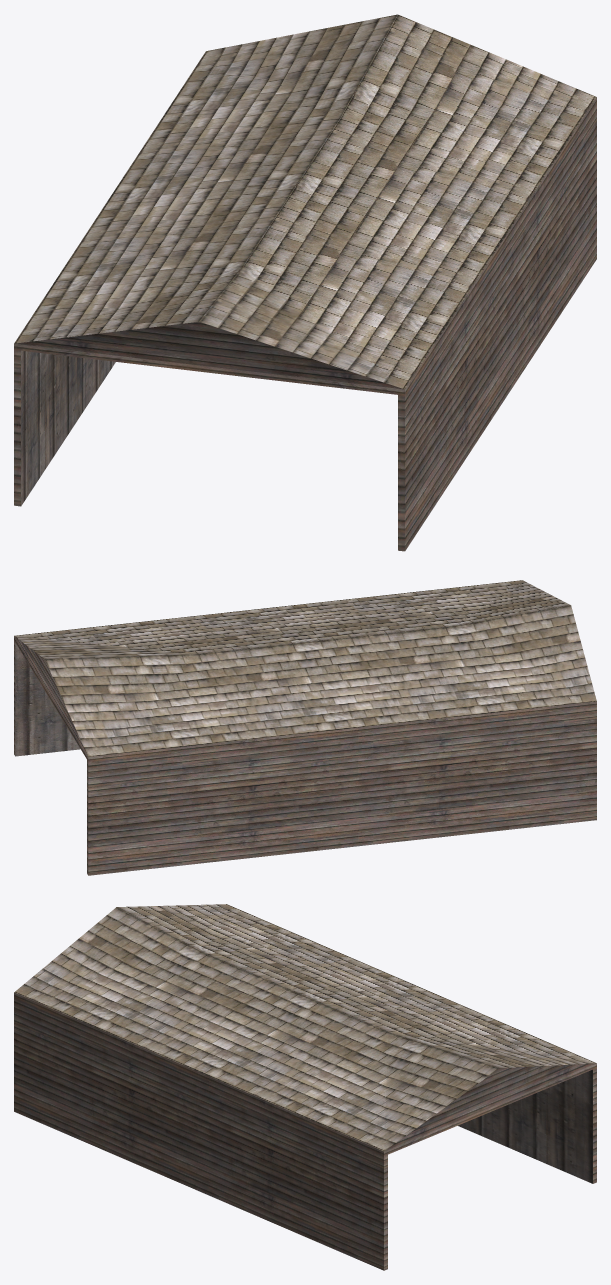
File: des_rnchbhous.obj
3 views of the same model, one above another, from view 1: azimuth 30°, elevation 25°; view 2: azimuth 150°, elevation 25°; view 3: azimuth 270°, elevation 25° (orthographic). The views are drawn at different scales.
Parts seen in each view (by area): view 1: des_rnchbhous; view 2: des_rnchbhous; view 3: des_rnchbhous.
Part boxes in pixels (x1,y1,x2,y2): des_rnchbhous: [14, 14, 596, 551]; des_rnchbhous: [14, 580, 596, 875]; des_rnchbhous: [14, 904, 596, 1270].
Size of the model in its own units: 11.59 by 3.48 by 11.53.
4 materials, 4 textured.
